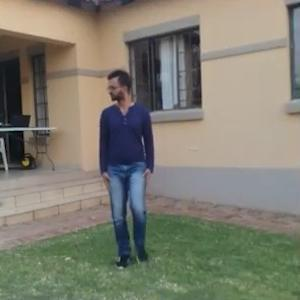follow: (93, 56, 164, 293)
